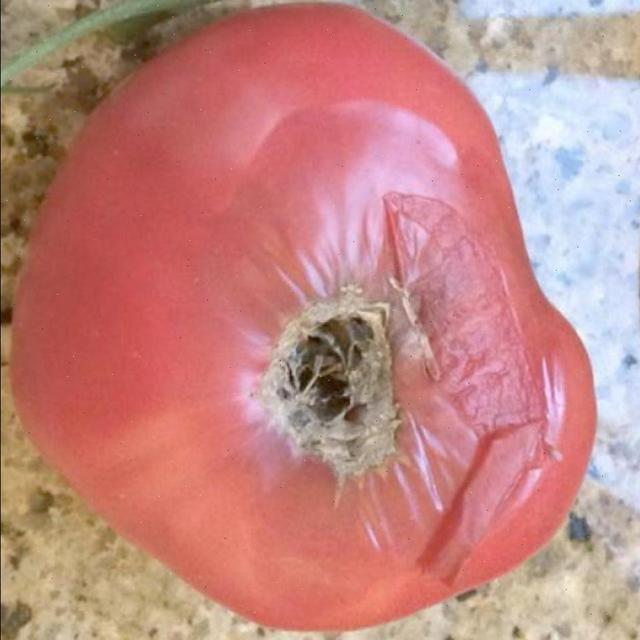Blossom End Rot Fruit: (163, 182, 298, 338)
